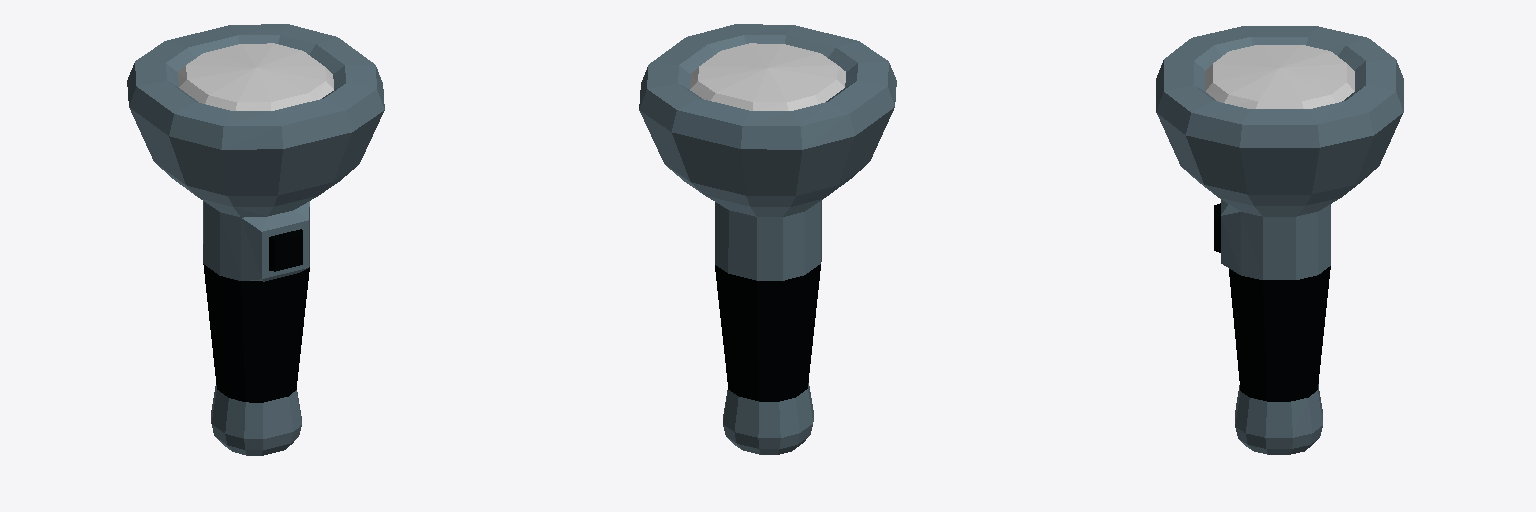
File: flashlight.obj
3 views of the same model, side by side, from view 1: azimuth 30°, elevation 25°; view 2: azimuth 150°, elevation 25°; view 3: azimuth 270°, elevation 25° (orthographic).
Visible parts, largest first — view 1: flashlight_Cylinder.043; view 2: flashlight_Cylinder.043; view 3: flashlight_Cylinder.043.
Part boxes in pixels (x1,y1,x2,y2): flashlight_Cylinder.043: (127, 24, 384, 455); flashlight_Cylinder.043: (639, 24, 896, 454); flashlight_Cylinder.043: (1156, 26, 1403, 454).
Bounding box in the file's own units: 0.4157 × 0.6975 × 0.4157.